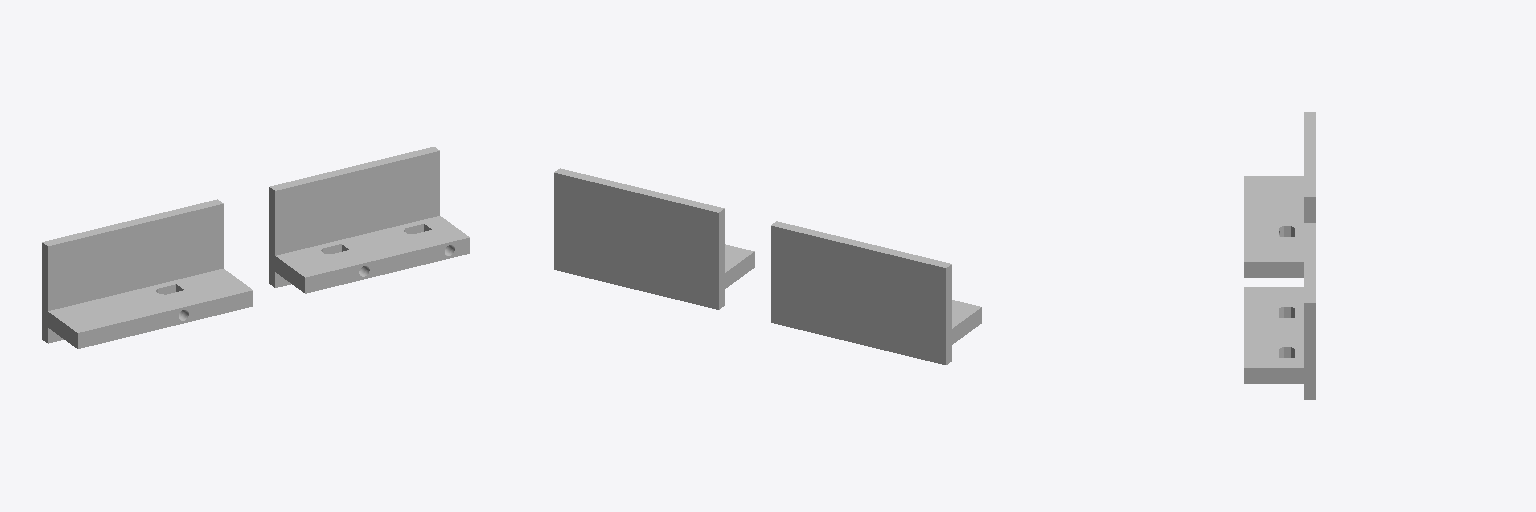
The model's file is only sides v2.obj.
3 renders of one model, left to right at view 1: azimuth 30°, elevation 25°; view 2: azimuth 150°, elevation 25°; view 3: azimuth 270°, elevation 25°, orthographic.
Visible parts, largest first — view 1: Body2, Body5; view 2: Body2, Body5; view 3: Body5, Body2.
Boxes of the visible parts, box(x1,y1,x2,y2) form: Body2: box(42, 199, 252, 348); Body5: box(269, 147, 469, 293); Body2: box(771, 221, 981, 364); Body5: box(554, 168, 754, 309); Body5: box(1244, 223, 1315, 399); Body2: box(1244, 112, 1315, 277).
Bounding box in the file's own units: 190 × 45 × 30.